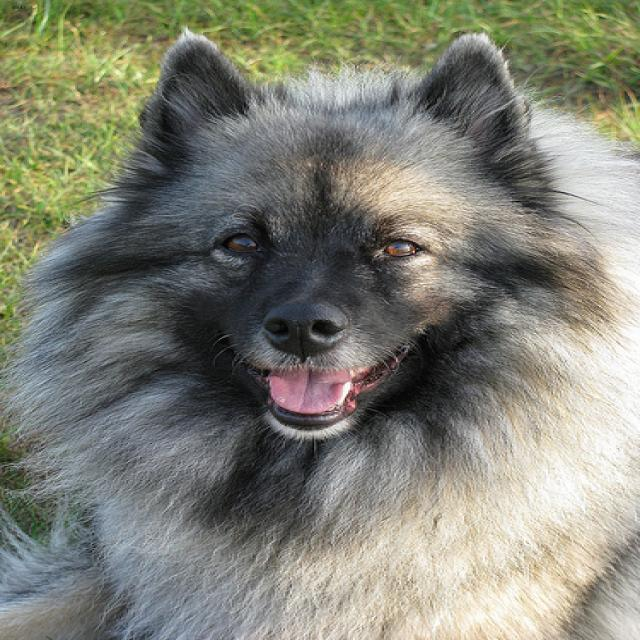dog-keeshond: (2, 19, 637, 637)
